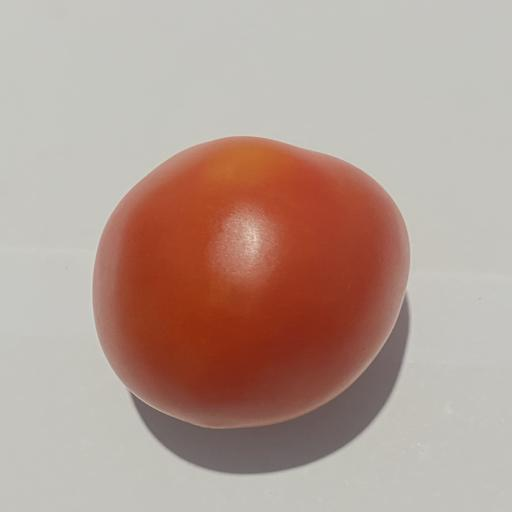ripe: (93, 137, 409, 429)
